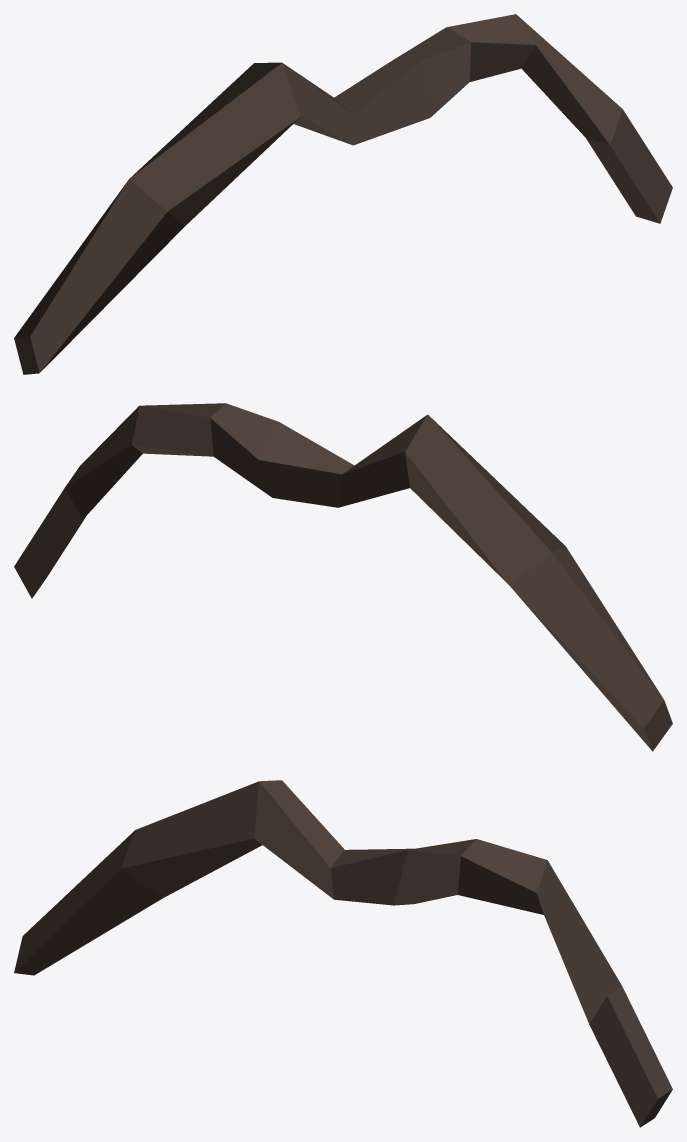
Rendered from branch2_disturb.fbx.
The picture shows the model from 3 angles, top to bottom: view 1: azimuth 30°, elevation 25°; view 2: azimuth 150°, elevation 25°; view 3: azimuth 330°, elevation 25°; orthographic projection.
Visible parts, largest first — view 1: Cube; view 2: Cube; view 3: Cube.
Boxes of the visible parts, bbox=[...] form: Cube: bbox=[14, 14, 672, 374]; Cube: bbox=[14, 403, 672, 751]; Cube: bbox=[14, 780, 672, 1127].
Bounding box in the file's own units: 2527 × 1004 × 342.
